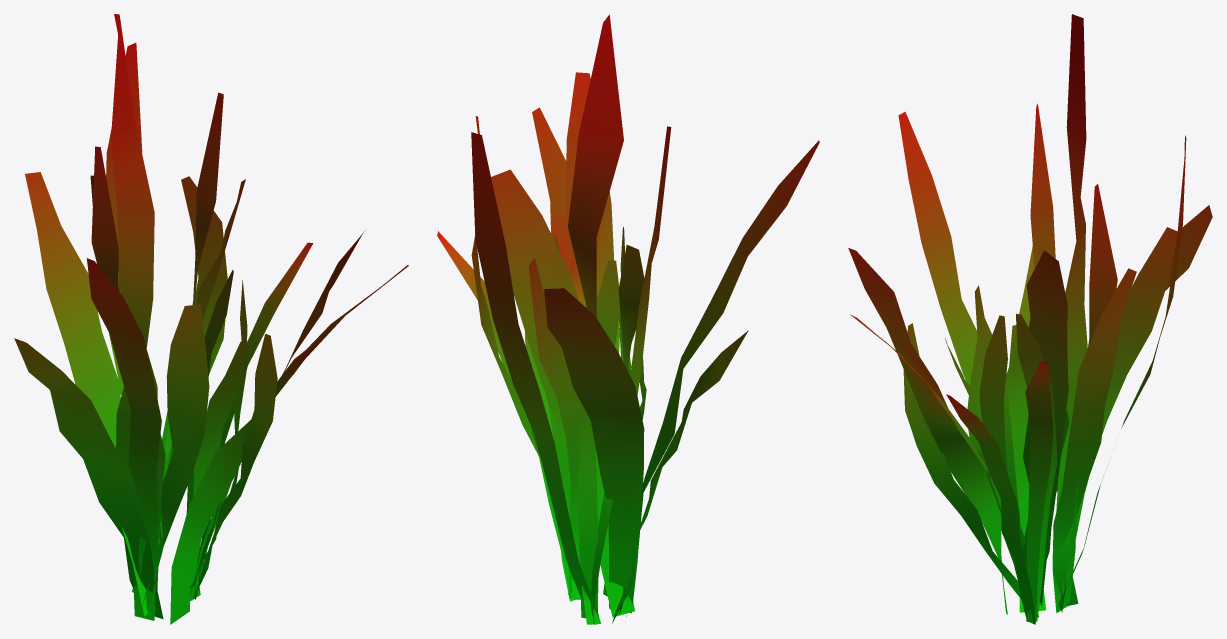
The model's file is Snake Plant_LOD2_Var7_sgtmY.fbx.
3 views of the same model, side by side, from view 1: azimuth 30°, elevation 25°; view 2: azimuth 150°, elevation 25°; view 3: azimuth 270°, elevation 25° (orthographic). The views are drawn at different scales.
Visible parts, largest first — view 1: _17ee_Var7_LOD2; view 2: _17ee_Var7_LOD2; view 3: _17ee_Var7_LOD2.
Boxes of the visible parts, x1,y1,x2,y2 form: _17ee_Var7_LOD2: (14, 14, 408, 624); _17ee_Var7_LOD2: (437, 14, 819, 624); _17ee_Var7_LOD2: (848, 14, 1212, 624).
Size of the model in its own units: 60.59 by 115 by 64.44.
